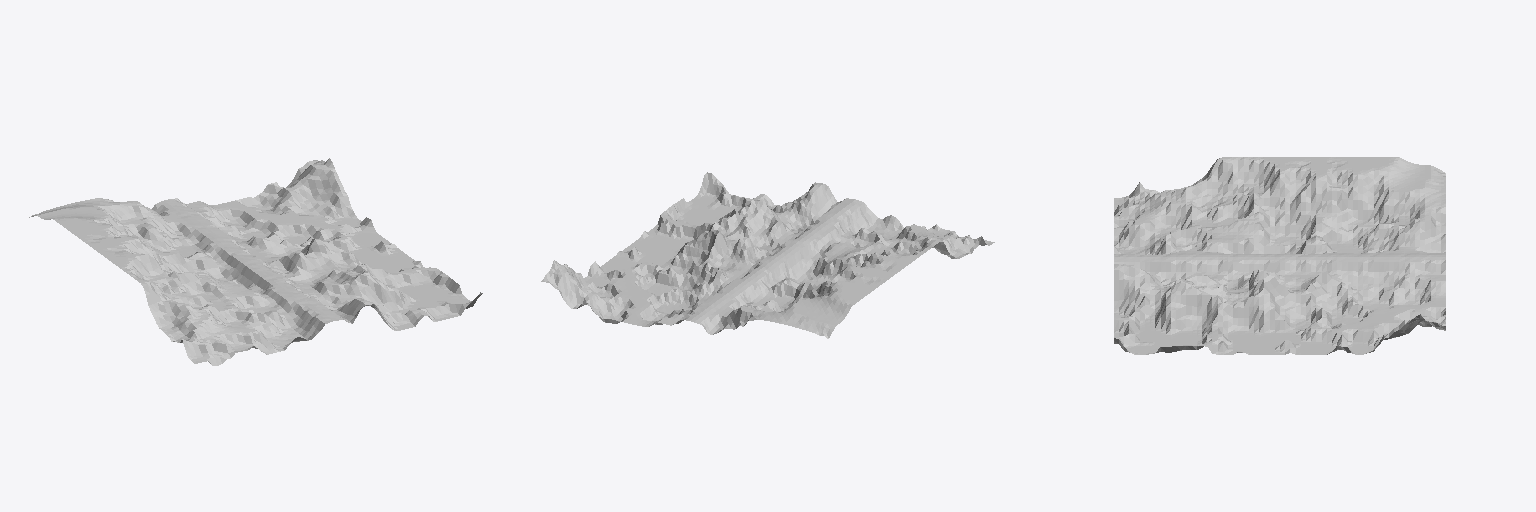
The picture shows the model from 3 angles: view 1: azimuth 30°, elevation 25°; view 2: azimuth 150°, elevation 25°; view 3: azimuth 270°, elevation 25°; orthographic projection.
Visible parts, largest first — view 1: CD1; view 2: CD1; view 3: CD1.
Boxes of the visible parts, x1=… form: CD1: x1=29, y1=158, x2=482, y2=365; CD1: x1=541, y1=172, x2=994, y2=338; CD1: x1=1114, y1=157, x2=1445, y2=354.
Size of the model in its own units: 420 by 80 by 420.